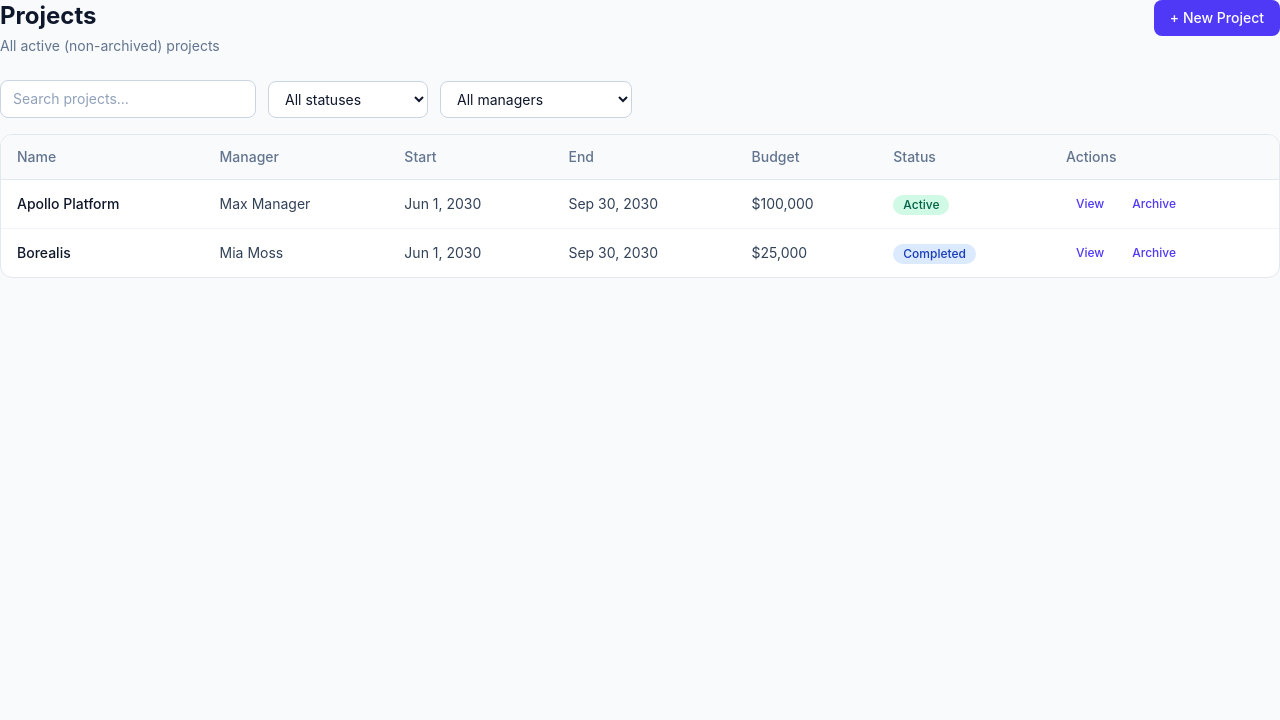
Scenario: ProjectListPage › as an admin › archives a project after confirmation
Expected: the text "Borealis" is shown, [17, 244, 71, 261]
Click the button "Archive" in the row of "Borealis".
click(1154, 253)  # box [1122, 241, 1186, 265]
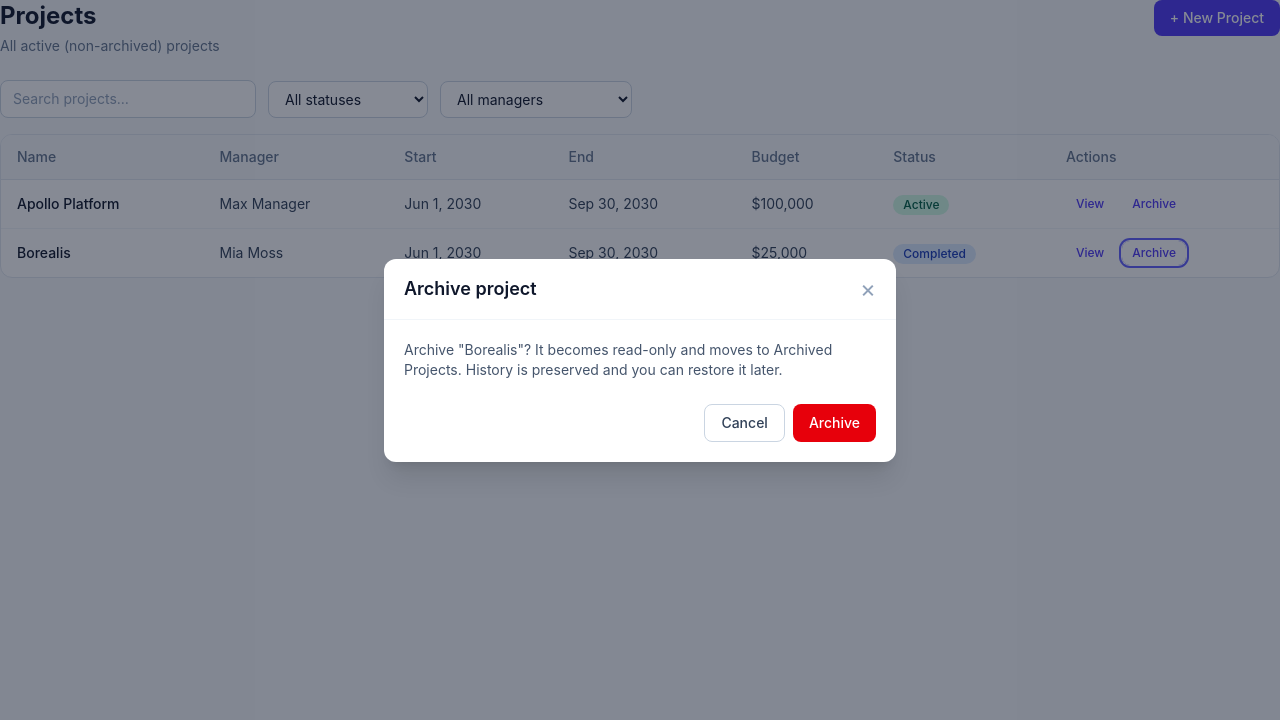
Now the dialog "Archive project" shows "Archive \"Borealis\"?", box [404, 340, 832, 378]
Click the button "Archive".
click(834, 422)  # box [793, 404, 876, 442]
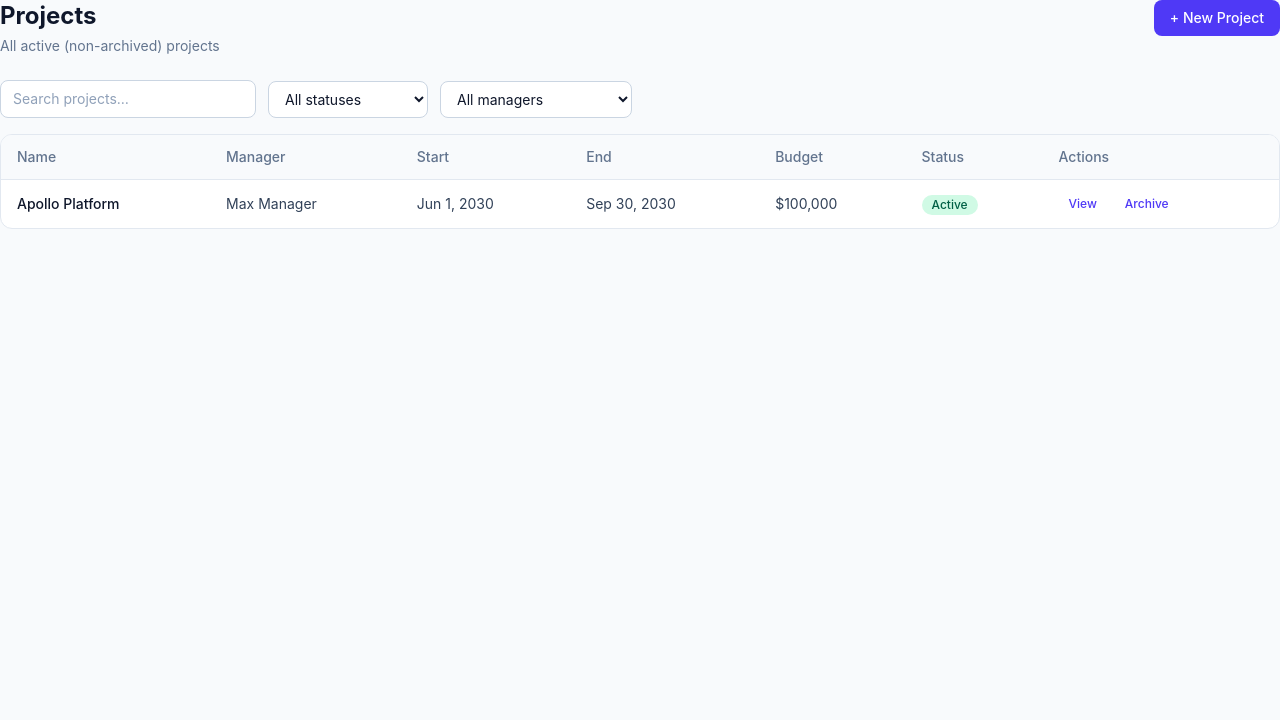
Expected: the text "Apollo Platform" is shown, [17, 195, 120, 212]
Now the text "Borealis" is gone
